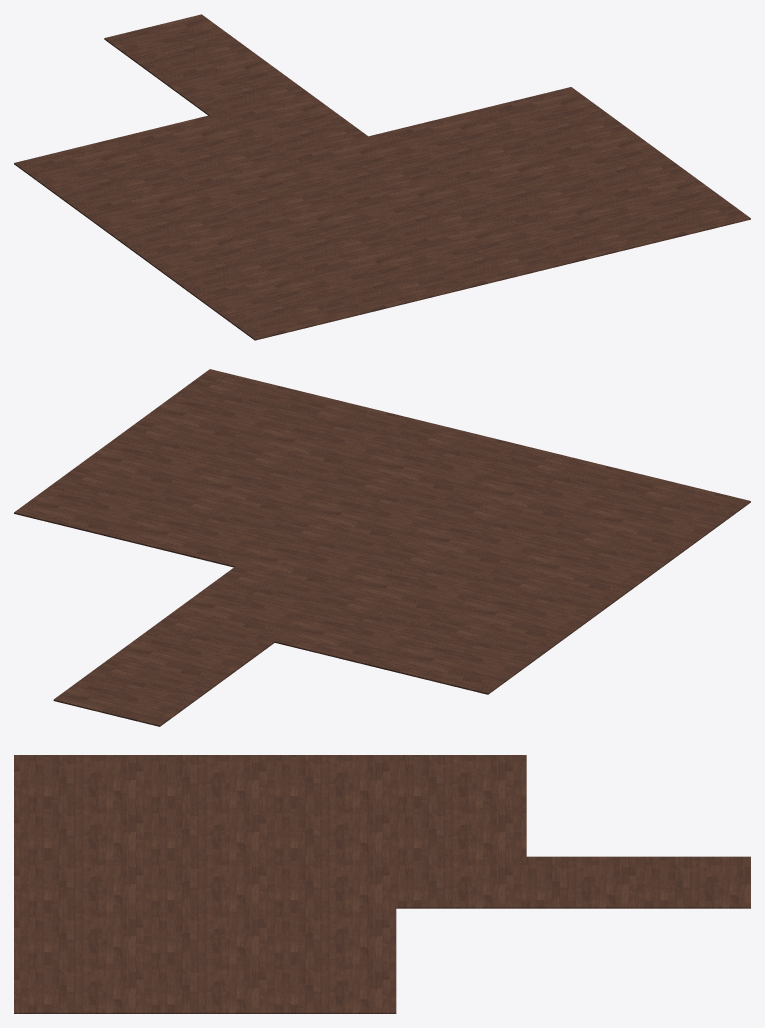
File: FLoor.fbx
3 renders of one model, top to bottom at view 1: azimuth 30°, elevation 25°; view 2: azimuth 150°, elevation 25°; view 3: azimuth 270°, elevation 25°, orthographic. The views are drawn at different scales.
Visible parts, largest first — view 1: pCube13; view 2: pCube13; view 3: pCube13.
Boxes of the visible parts, <box> form: pCube13: <box>14,14,750,340</box>; pCube13: <box>14,369,750,726</box>; pCube13: <box>14,755,750,1013</box>.
Size of the model in its own units: 12.36 by 0.0305 by 14.95.
Materials: 1 (1 with a texture image).
